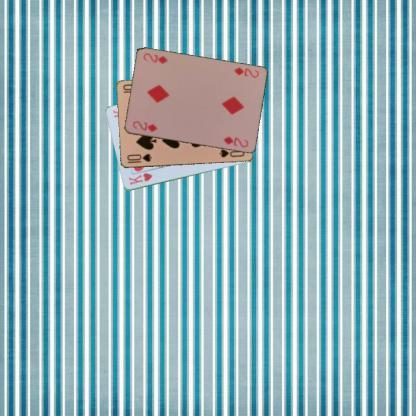10s: (124, 151, 153, 165)
2d: (231, 64, 260, 80), (130, 118, 158, 134)
Kh: (126, 170, 154, 186)
